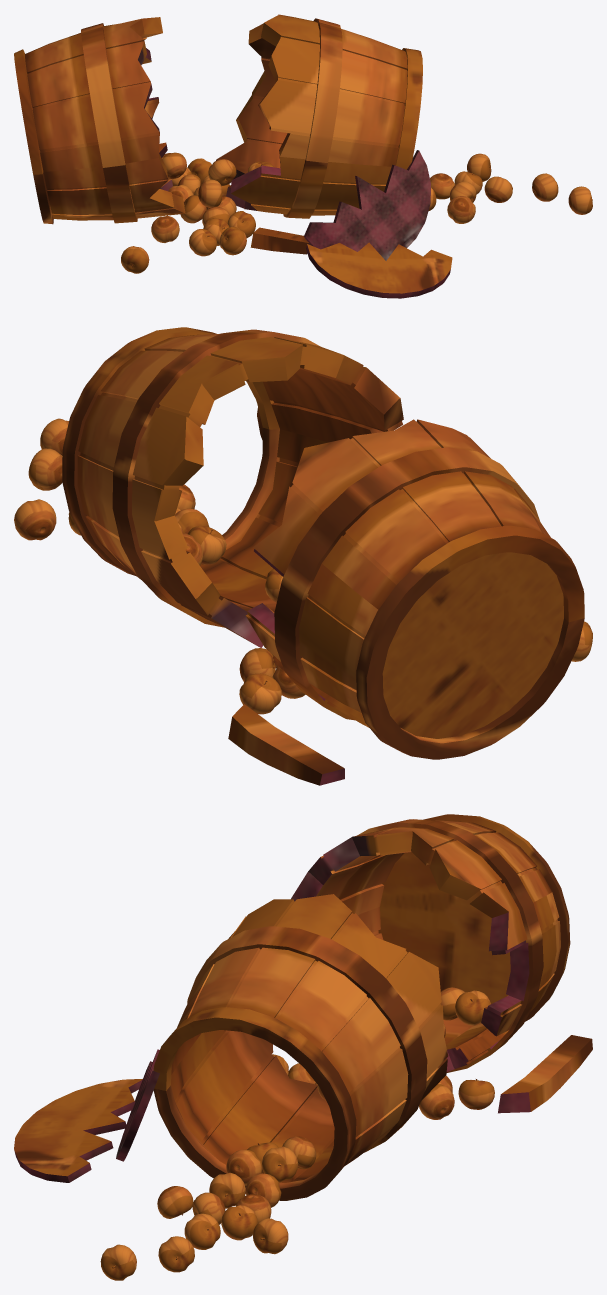
The model's file is barrel of broken fruit_6.fbx.
3 renders of one model, top to bottom at view 1: azimuth 30°, elevation 25°; view 2: azimuth 150°, elevation 25°; view 3: azimuth 270°, elevation 25°, orthographic. The views are drawn at different scales.
Visible parts, largest first — view 1: Circle.031, Circle.032, Plane.1700, Plane.1683, Plane.1698, Plane.1678, Plane.1686, Plane.1693, Plane.1706, Plane.1704, Plane.1690, Plane.1695 (+6 smaller); view 2: Circle.031, Plane.1687, Plane.1679, Plane.1693, Plane.1715, Plane.1676, Plane.1690; view 3: Circle.031, Circle.032, Plane.1693, Plane.1690, Plane.1687, Plane.1706, Plane.1699, Plane.1701, Plane.1676, Plane.1688, Plane.1679, Plane.1700 (+5 smaller).
Part boxes in pixels (x1,y1,x2,y2): Circle.031: [14, 14, 422, 254]; Circle.032: [304, 150, 452, 298]; Plane.1700: [447, 196, 475, 223]; Plane.1683: [151, 215, 179, 242]; Plane.1698: [121, 246, 149, 273]; Plane.1678: [219, 227, 246, 255]; Plane.1686: [189, 229, 217, 256]; Plane.1693: [532, 173, 558, 201]; Plane.1706: [484, 176, 512, 202]; Plane.1704: [208, 159, 236, 185]; Plane.1690: [568, 186, 592, 214]; Plane.1695: [198, 179, 222, 207]; Circle.031: [62, 327, 584, 785]; Plane.1687: [14, 499, 56, 540]; Plane.1679: [239, 673, 281, 714]; Plane.1693: [28, 448, 62, 490]; Plane.1715: [188, 526, 226, 564]; Plane.1676: [239, 648, 276, 681]; Plane.1690: [40, 418, 68, 455]; Circle.031: [153, 814, 592, 1200]; Circle.032: [14, 1049, 159, 1182]; Plane.1693: [158, 1236, 194, 1272]; Plane.1690: [100, 1244, 136, 1280]; Plane.1687: [252, 1218, 288, 1254]; Plane.1706: [184, 1213, 220, 1249]; Plane.1699: [221, 1205, 257, 1240]; Plane.1701: [261, 1146, 298, 1182]; Plane.1676: [419, 1084, 454, 1119]; Plane.1688: [455, 990, 490, 1025]; Plane.1679: [458, 1079, 494, 1109]; Plane.1700: [157, 1186, 193, 1218].
Size of the model in its own units: 93.79 by 37.01 by 79.57.
